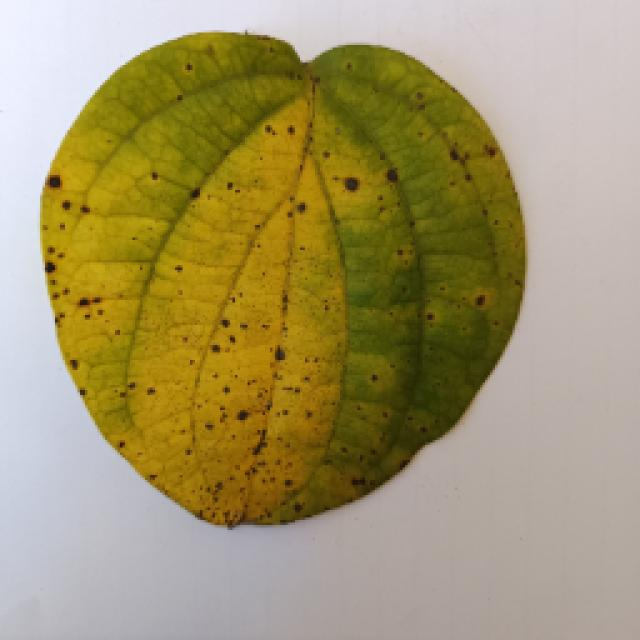slow-decline: (30, 38, 535, 530)
